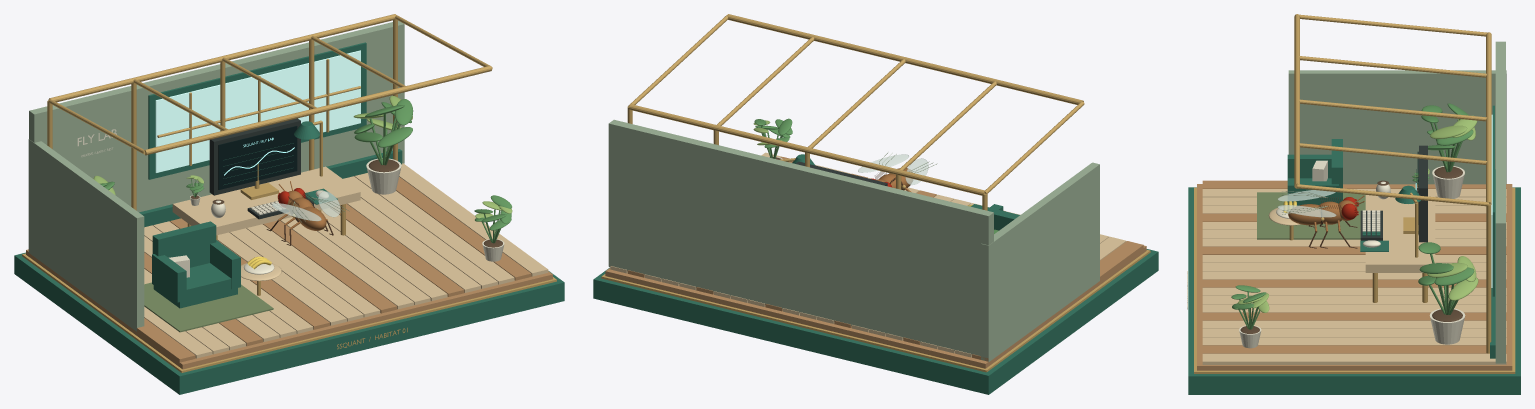
Rendered from home.glb.
3 views of the same model, side by side, from view 1: azimuth 30°, elevation 25°; view 2: azimuth 150°, elevation 25°; view 3: azimuth 270°, elevation 25° (orthographic). The views are drawn at different scales.
Visible parts, largest first — view 1: Back wall, Left wall, Habitat plinth, Window soft light, Trading desk, Subfloor, MarketScreen, Woven rug, Window recess, Maple floorboard.018, Brass reveal, Roof header (+38 smaller); view 2: Back wall, Left wall, Habitat plinth, Subfloor, Brass reveal, Back header, Roof header, Maple floorboard, Roof spar, Roof spar.004, Roof spar.002, Roof spar.003 (+1 smaller); view 3: Left wall, Habitat plinth, Subfloor, Back wall, Maple floorboard.021, Trading desk, Woven rug, Brass reveal, Maple floorboard.020, Maple floorboard.019, Maple floorboard.017, Maple floorboard.016 (+45 smaller).
Boxes of the visible parts, x1,y1,x2,y2 form: Back wall: [29, 20, 404, 212]; Left wall: [28, 139, 144, 331]; Habitat plinth: [14, 252, 564, 394]; Window soft light: [155, 50, 360, 172]; Trading desk: [172, 166, 360, 235]; Subfloor: [26, 249, 552, 369]; MarketScreen: [218, 126, 297, 189]; Woven rug: [144, 282, 273, 332]; Window recess: [148, 42, 366, 179]; Maple floorboard.018: [343, 176, 497, 288]; Brass reveal: [22, 253, 556, 372]; Roof header: [144, 65, 492, 155]; Back wall: [608, 119, 993, 355]; Left wall: [981, 162, 1099, 361]; Habitat plinth: [593, 249, 1158, 394]; Subfloor: [605, 245, 1146, 368]; Brass reveal: [601, 250, 1150, 372]; Back header: [628, 104, 985, 195]; Roof header: [727, 14, 1083, 104]; Maple floorboard: [972, 241, 1143, 361]; Roof spar: [985, 101, 1084, 193]; Roof spar.004: [628, 15, 728, 106]; Roof spar.002: [808, 59, 905, 148]; Roof spar.003: [717, 37, 814, 125]; Left wall: [1288, 70, 1506, 184]; Habitat plinth: [1188, 187, 1520, 394]; Subfloor: [1197, 184, 1512, 370]; Back wall: [1495, 41, 1505, 363]; Maple floorboard.021: [1202, 353, 1506, 364]; Trading desk: [1365, 189, 1435, 272]; Woven rug: [1257, 192, 1365, 239]; Brass reveal: [1194, 187, 1515, 373]; Maple floorboard.020: [1202, 345, 1506, 353]; Maple floorboard.019: [1202, 337, 1506, 345]; Maple floorboard.017: [1202, 320, 1506, 328]; Maple floorboard.016: [1202, 312, 1506, 320].
Size of the model in its own units: 7.8 by 3.88 by 5.82.
